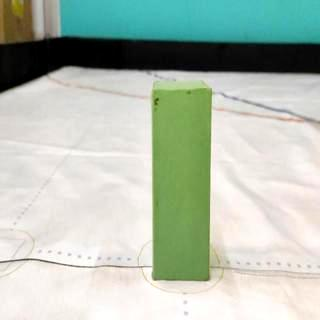greenbox: (152, 81, 211, 282)
